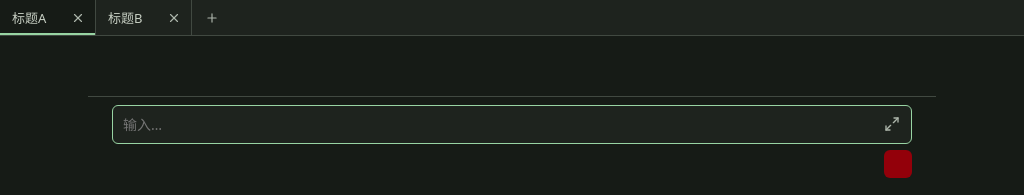
Test case: Tab 行内重命名（失焦不提交的语义收敛） › 右键菜单换目标重命名：先提交旧目标草稿（镜像双击路径），再进入新目标编辑
Double-click the text "标题A" at point(48, 18), box 0,0 -> 96,35
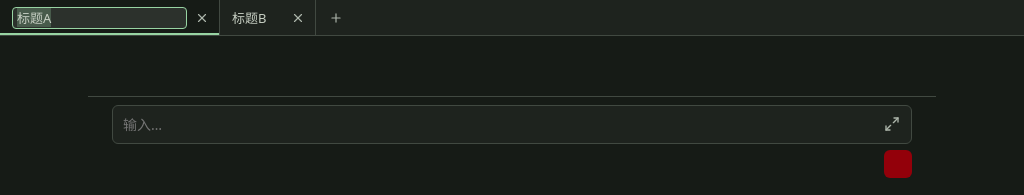
Replace the text in the field named "重命名" with "草稿新名" at point(100, 18), box 12,6 -> 187,28
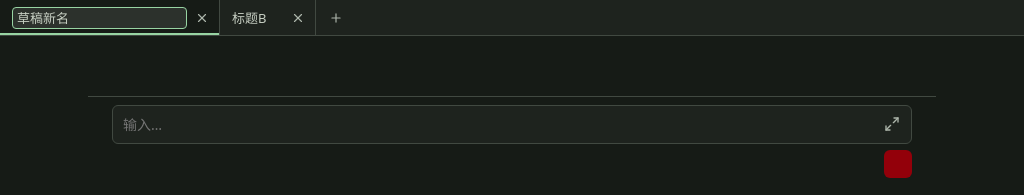
Right-click the text "标题B" at point(268, 18), box 220,0 -> 316,35
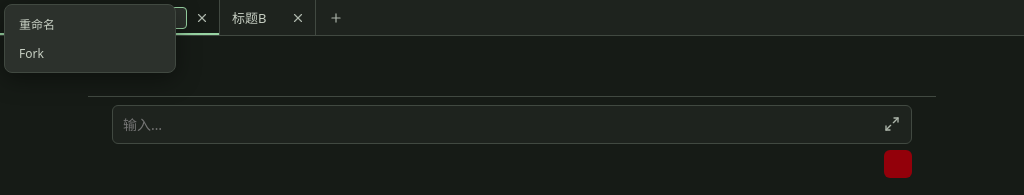
Click the button "重命名" at point(90, 24), box 9,9 -> 171,39
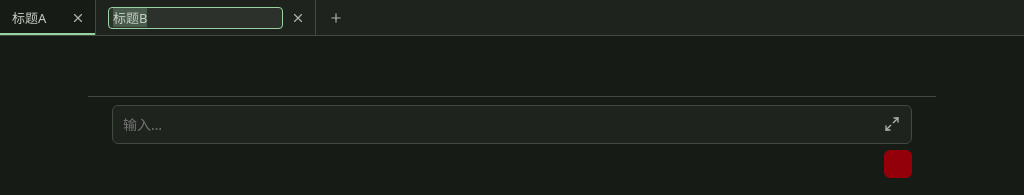
Expected: the field named "重命名" holds "标题B", 108,6 -> 283,28
